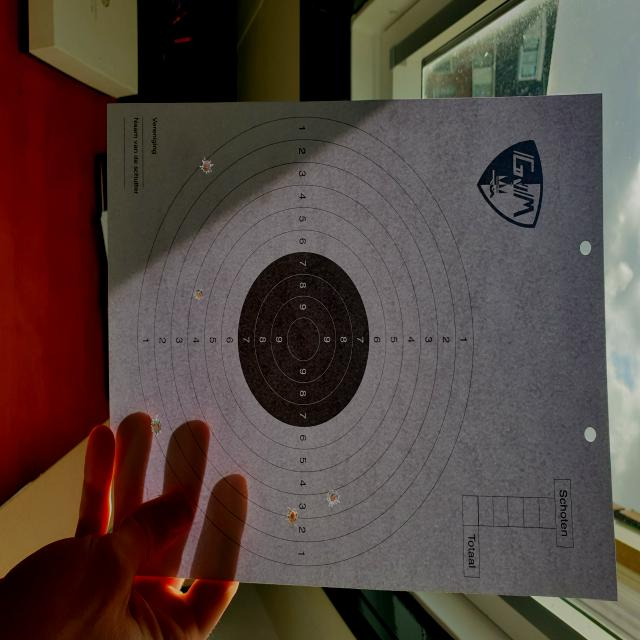1: (151, 414, 162, 436), (200, 158, 214, 174)
3: (286, 507, 298, 525)
4: (328, 490, 340, 508), (194, 289, 204, 300)
Target: (135, 114, 475, 570)
black_contour: (238, 252, 369, 427)
